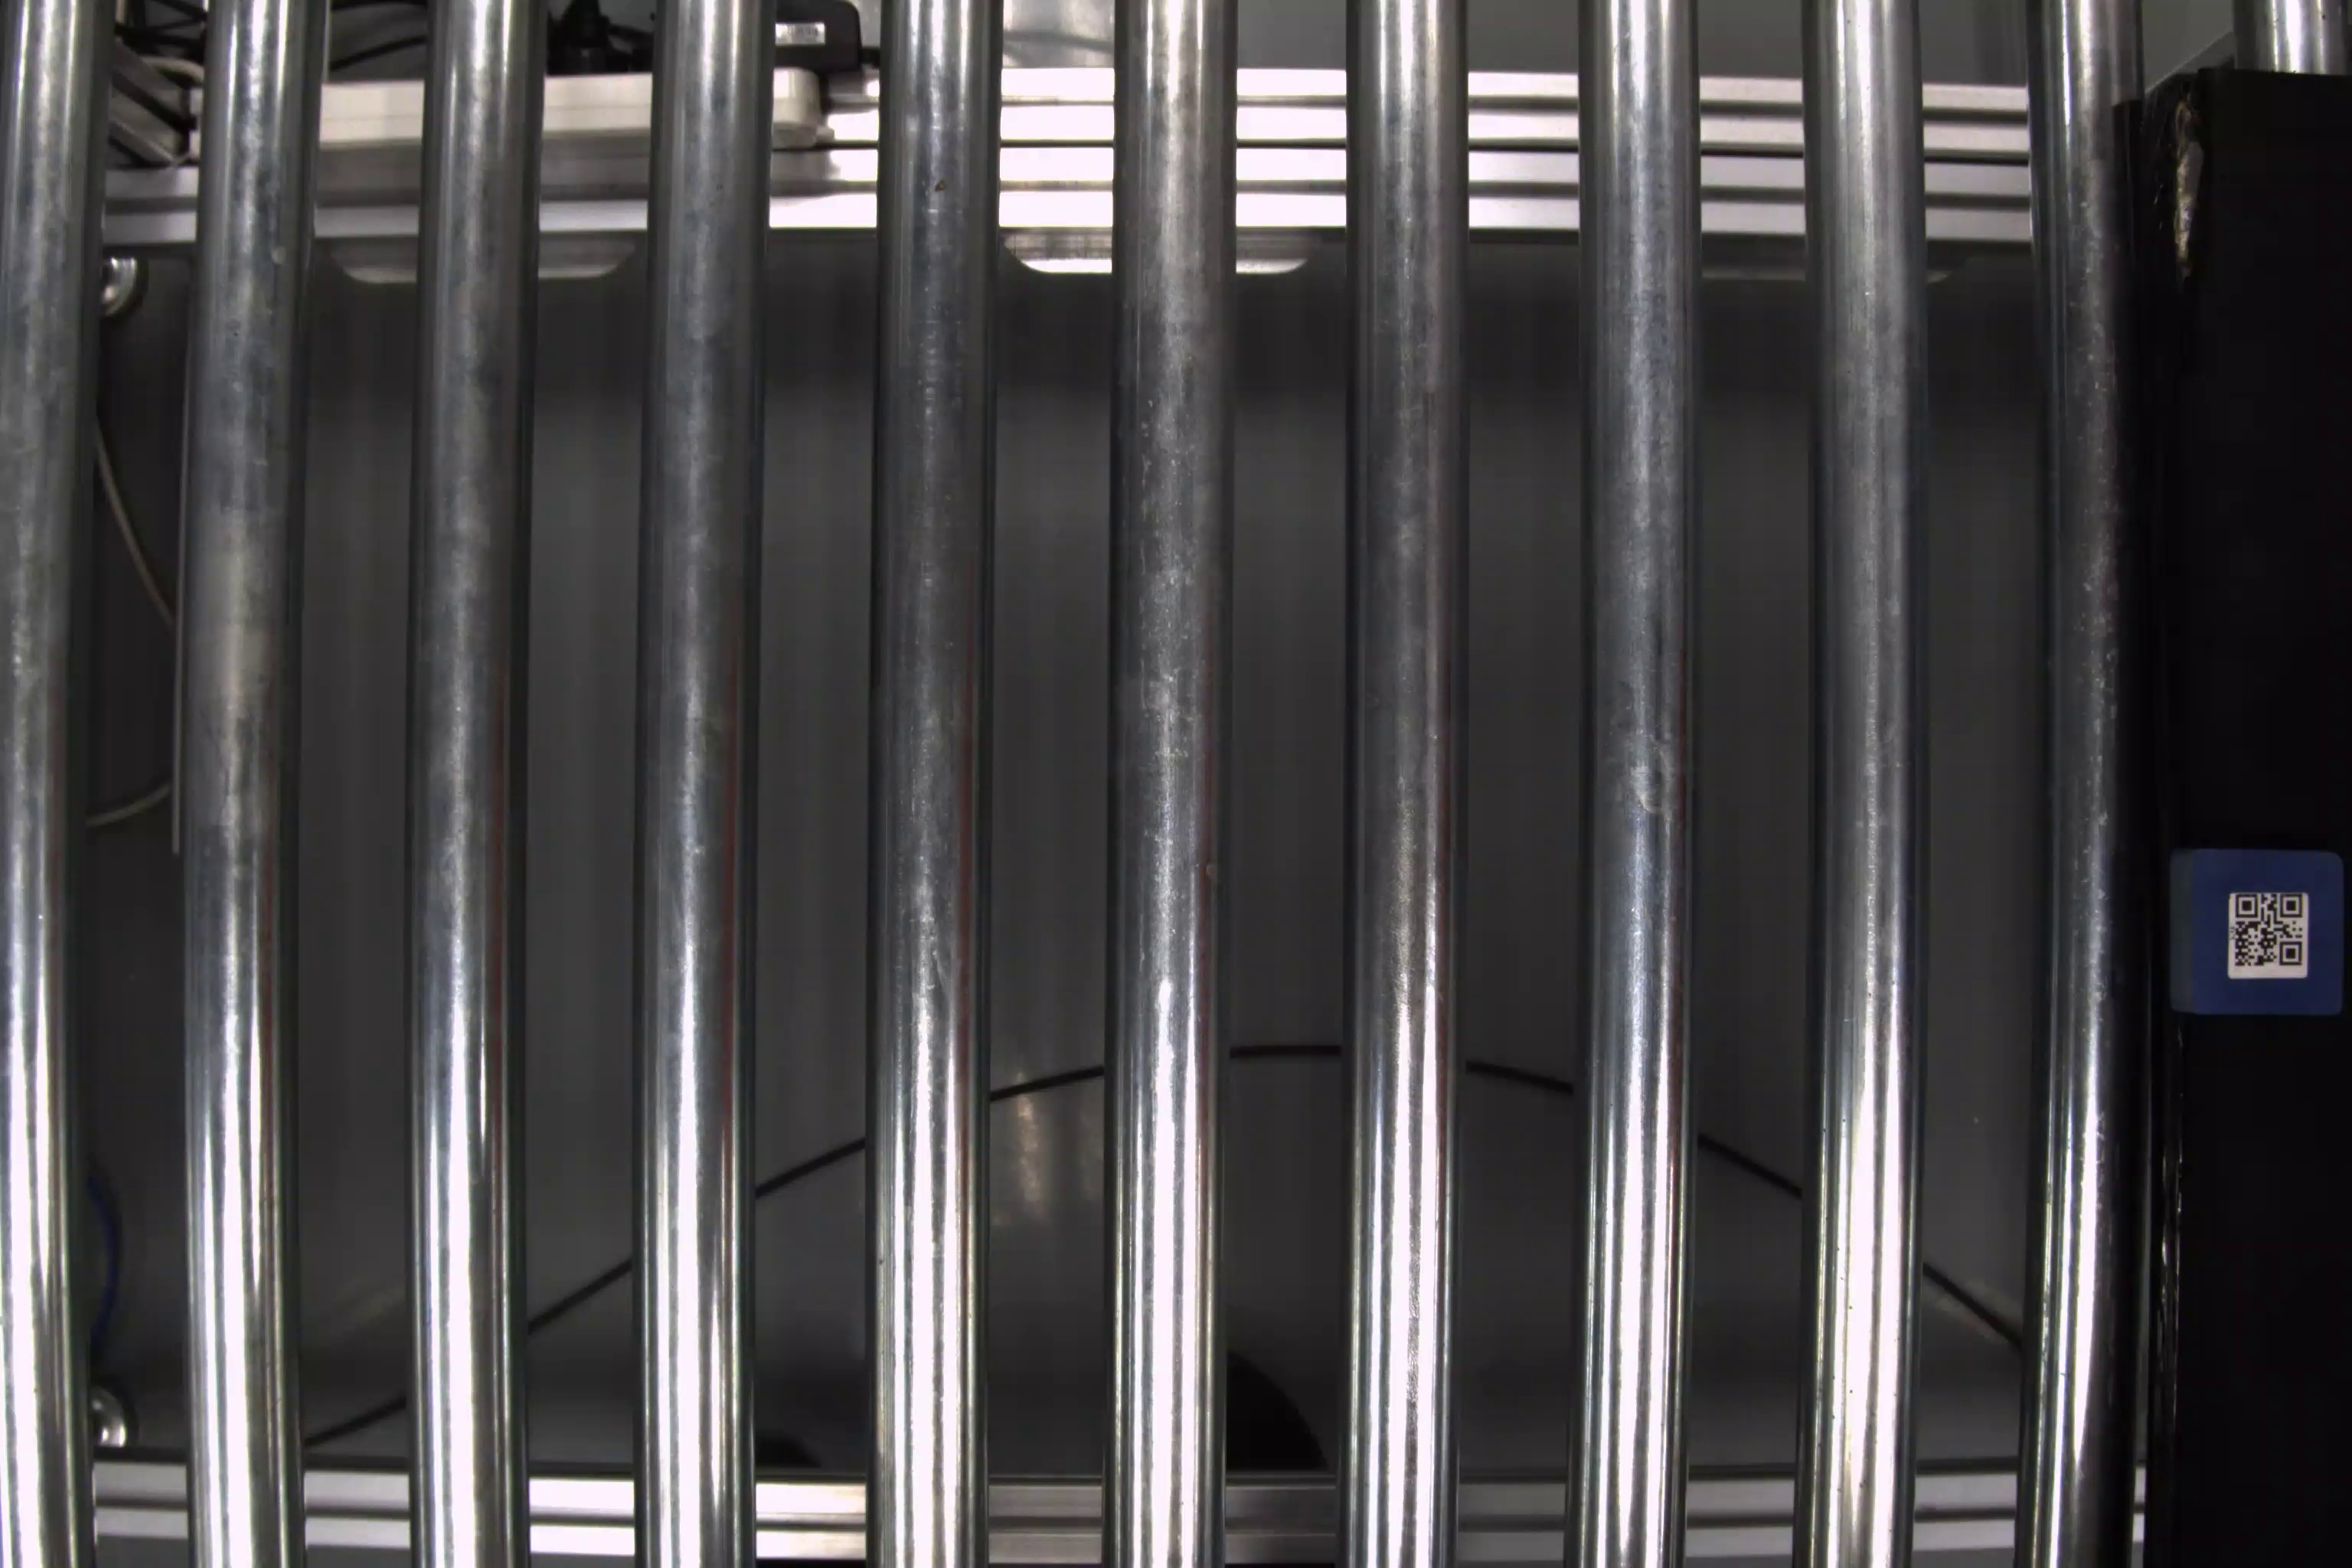wood: (2173, 845, 2347, 1018)
